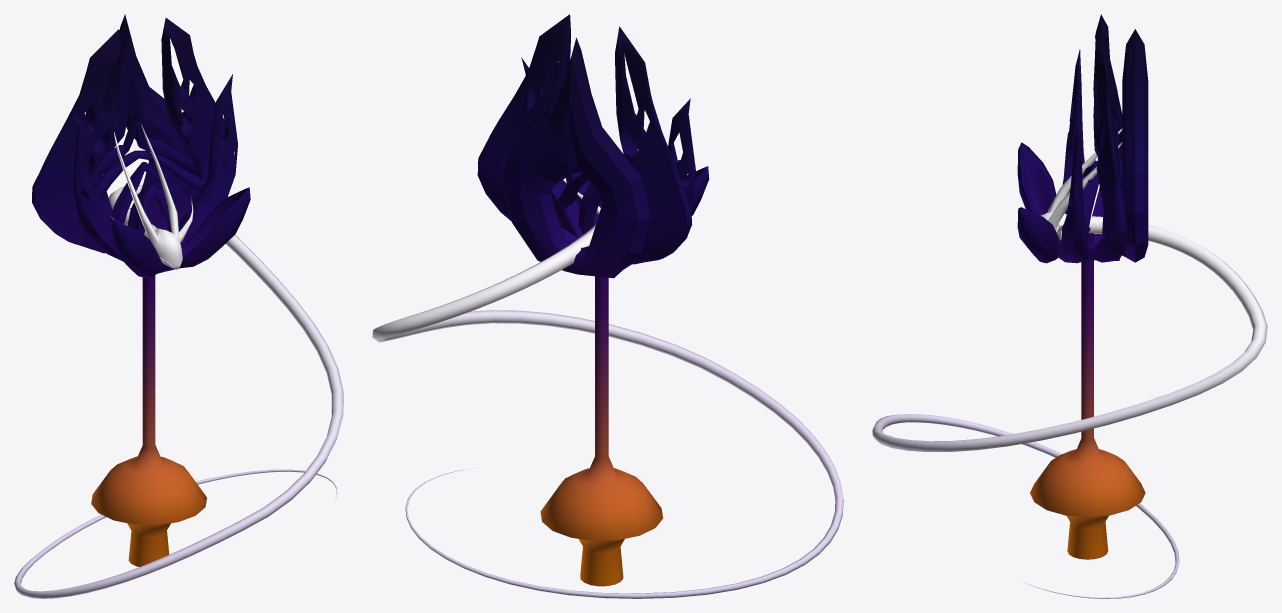
The model's file is MOD_WarmteBron_CLOSED.fbx.
The picture shows the model from 3 angles, left to right: view 1: azimuth 30°, elevation 25°; view 2: azimuth 150°, elevation 25°; view 3: azimuth 270°, elevation 25°; orthographic projection. The views are drawn at different scales.
Visible parts, largest first — view 1: MOD_DeadDragon; view 2: MOD_DeadDragon; view 3: MOD_DeadDragon.
Boxes of the visible parts, <box> form: MOD_DeadDragon: <box>14,14,343,598</box>; MOD_DeadDragon: <box>372,14,843,598</box>; MOD_DeadDragon: <box>872,14,1267,598</box>.
Bounding box in the file's own units: 15.08 × 22.17 × 15.11.
